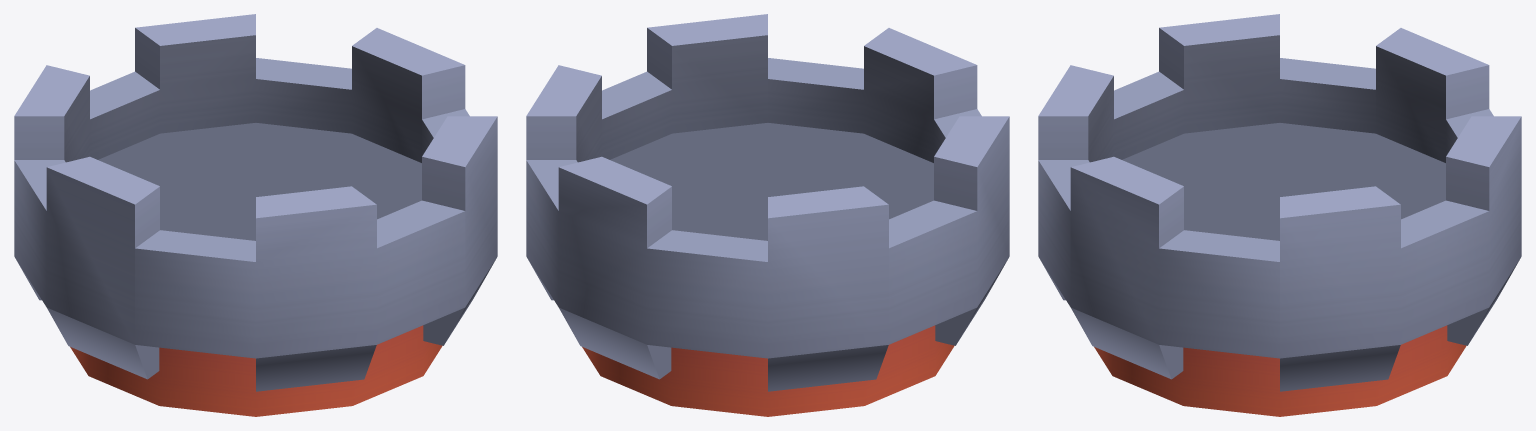
File: tower-round-top-b.gltf
3 renders of one model, left to right at view 1: azimuth 30°, elevation 25°; view 2: azimuth 150°, elevation 25°; view 3: azimuth 270°, elevation 25°, orthographic.
Parts seen in each view (by area): view 1: tower-round-top-b; view 2: tower-round-top-b; view 3: tower-round-top-b.
Part boxes in pixels (bbox=[...]): tower-round-top-b: bbox=[14, 14, 497, 416]; tower-round-top-b: bbox=[526, 14, 1009, 416]; tower-round-top-b: bbox=[1038, 14, 1521, 416].
Size of the model in its own units: 1 by 0.5 by 1.
1 material, 1 textured.
